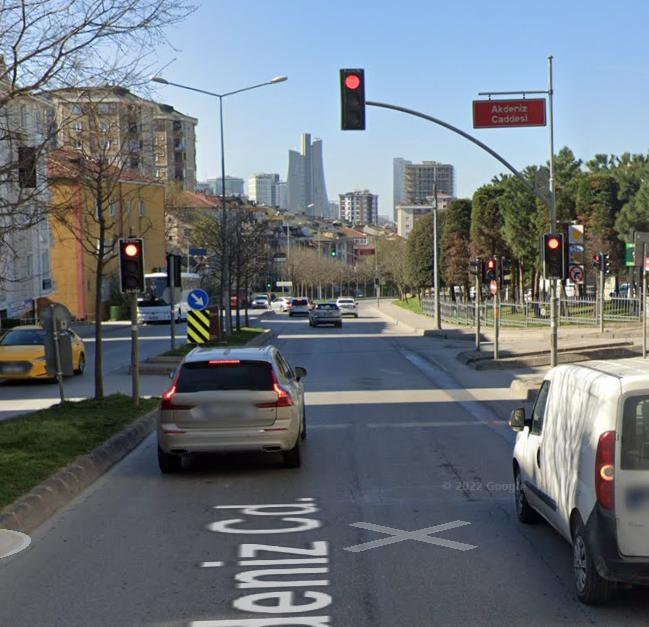greenlight: (331, 243, 336, 257)
redlight: (340, 67, 365, 133), (120, 238, 143, 290), (544, 228, 565, 279)
rightturnsareforbidden: (569, 266, 584, 282)
